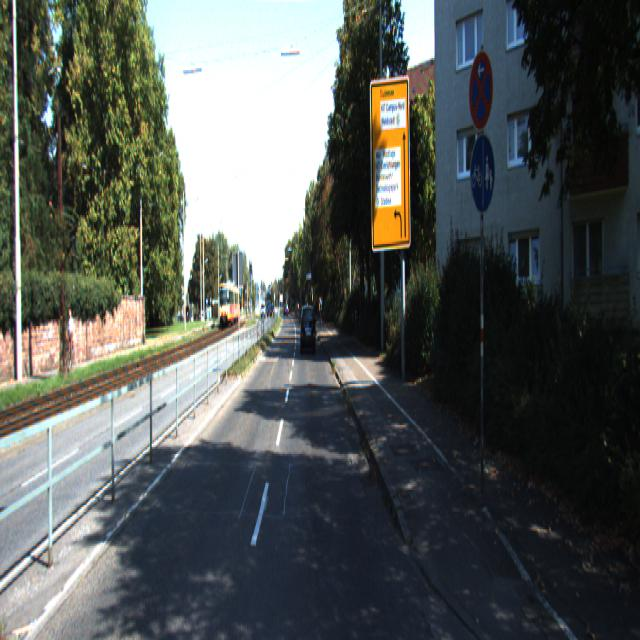Car: (219, 282, 241, 328), (301, 306, 316, 356)
